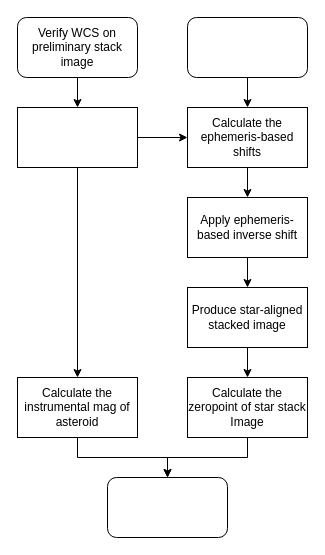
Image size: 325x555. Some labels were removed from this diagram. Each missing label, with the box of its shape:
Asteroid magnitude: (106, 476, 228, 538)
Ref source S is an asteroid: (16, 106, 138, 168)
Registered image datacube: (186, 16, 308, 78)
